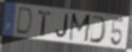5: (110, 17, 124, 47)
D: (88, 15, 108, 45), (15, 6, 34, 37)
J: (55, 13, 70, 39)
M: (67, 12, 93, 44)
T: (38, 10, 52, 38)
